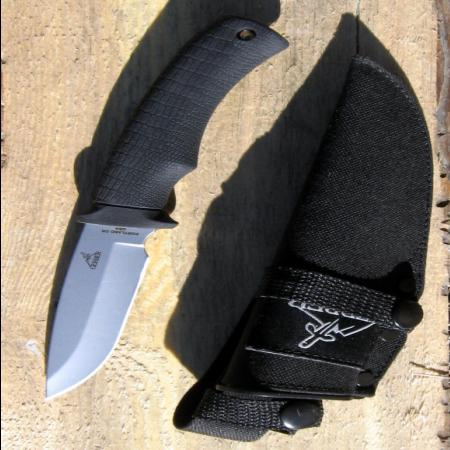long weapon: (36, 182, 188, 408)
